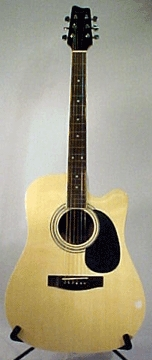guitar: (4, 5, 147, 356)
